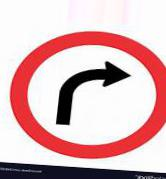right: (11, 30, 166, 159)
